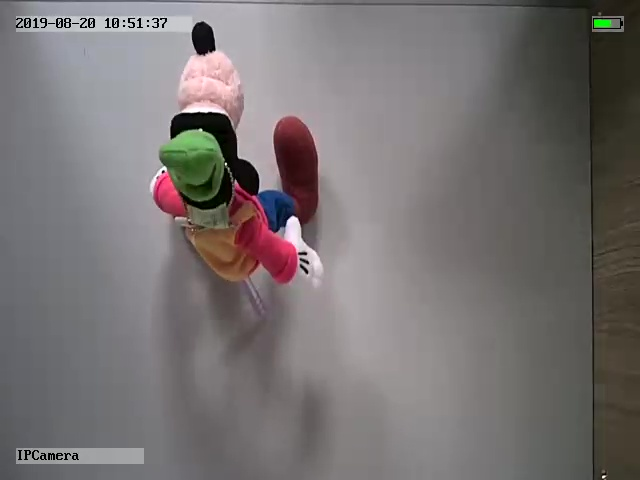goofy: (147, 20, 326, 296)
